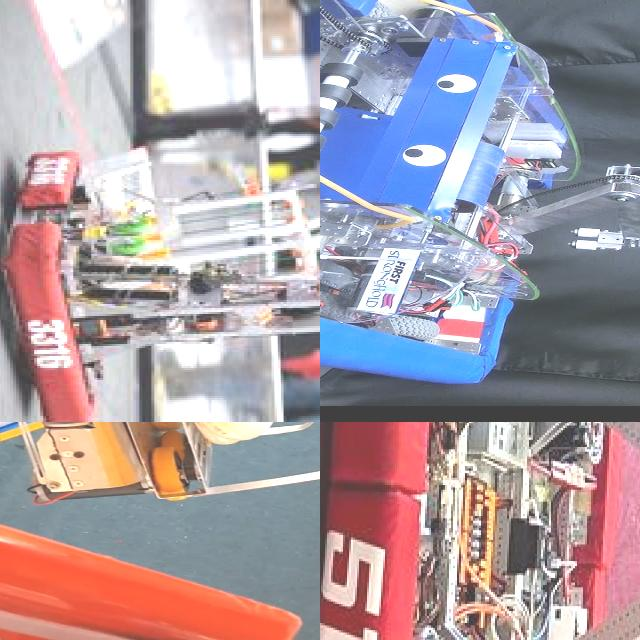FRC-Robots: (320, 0, 640, 392), (0, 135, 320, 422), (320, 422, 640, 640), (0, 422, 320, 506)
